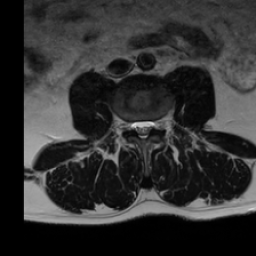CCS_normal: (139, 113, 146, 144)
LFS_normal: (154, 113, 162, 137)
LLS_normal: (146, 115, 153, 134)
RFS_normal: (123, 115, 131, 135)
RLS_normal: (131, 115, 139, 137)
